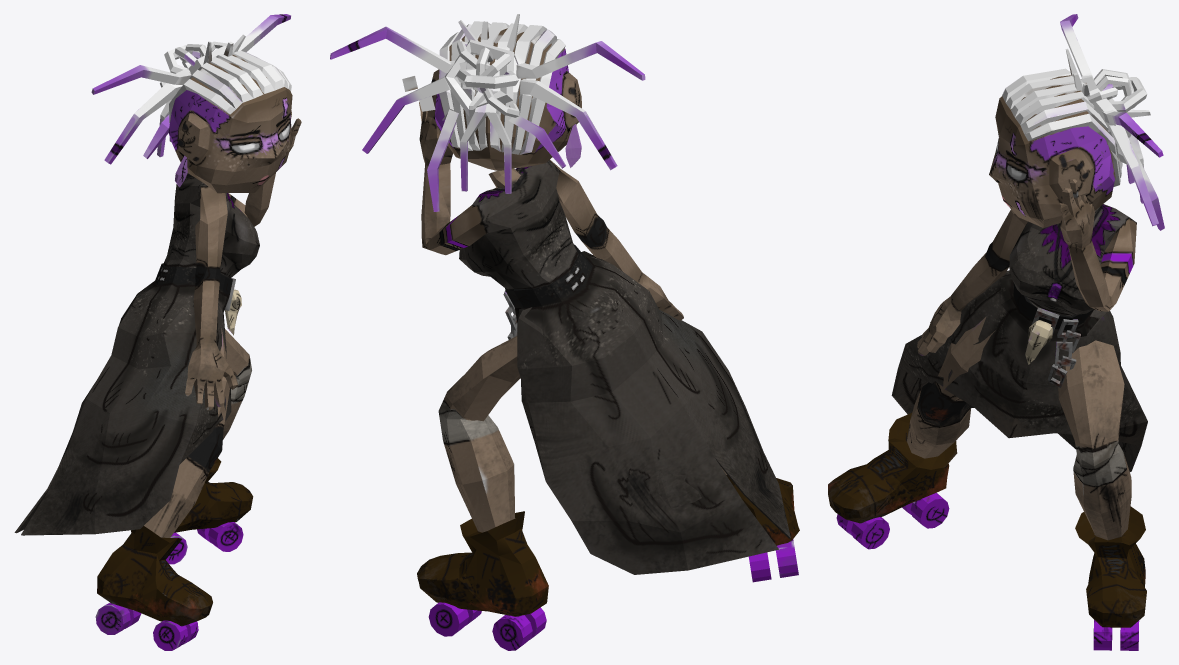
File: bruja_000008.obj
3 views of the same model, side by side, from view 1: azimuth 30°, elevation 25°; view 2: azimuth 150°, elevation 25°; view 3: azimuth 270°, elevation 25° (orthographic). The views are drawn at different scales.
Visible parts, largest first — view 1: Bruja_Plane.001; view 2: Bruja_Plane.001; view 3: Bruja_Plane.001.
Boxes of the visible parts, x1,y1,x2,y2 form: Bruja_Plane.001: [14, 14, 301, 650]; Bruja_Plane.001: [330, 14, 799, 650]; Bruja_Plane.001: [828, 14, 1164, 650].
Bounding box in the file's own units: 10.22 × 15.33 × 8.03.
